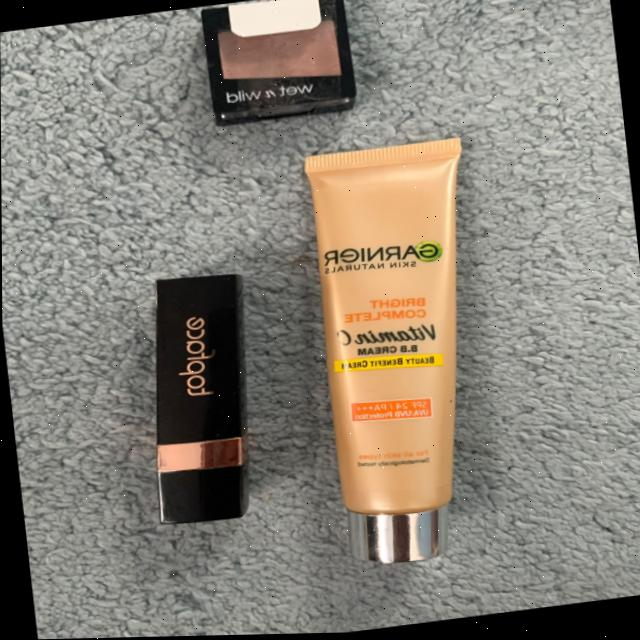bb cream: (285, 105, 515, 593)
concealer: (184, 0, 368, 127)
lip stick: (117, 248, 273, 549)
